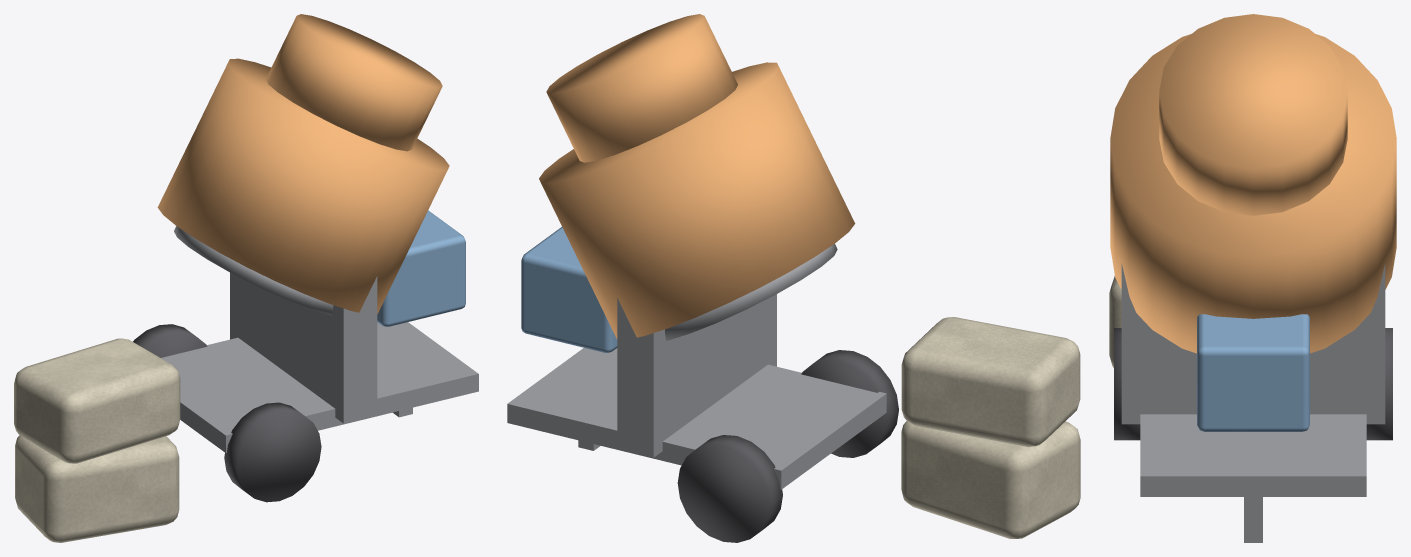
Rendered from obra.betonera.fbx.
The picture shows the model from 3 angles, left to right: view 1: azimuth 30°, elevation 25°; view 2: azimuth 150°, elevation 25°; view 3: azimuth 270°, elevation 25°; orthographic projection. The views are drawn at different scales.
Parts seen in each view (by area): view 1: Tambor, Chasis, Saco de cemento.001, Boca, Saco de cemento, Soporte, Rueda.001, Motor, Fondo, Rueda; view 2: Tambor, Chasis, Saco de cemento.001, Boca, Saco de cemento, Soporte, Rueda, Motor, Rueda.001, Fondo; view 3: Tambor, Boca, Chasis, Soporte, Motor, Rueda, Rueda.001, Pata, Saco de cemento.
Part boxes in pixels (x1,y1,x2,y2): Tambor: [157, 58, 449, 313]; Chasis: [161, 322, 478, 452]; Saco de cemento.001: [14, 338, 180, 463]; Boca: [266, 14, 442, 151]; Saco de cemento: [15, 435, 179, 542]; Soporte: [230, 272, 377, 423]; Rueda.001: [224, 402, 321, 502]; Motor: [377, 210, 465, 326]; Fondo: [174, 226, 333, 315]; Rueda: [133, 324, 207, 357]; Tambor: [539, 62, 855, 339]; Chasis: [507, 348, 886, 489]; Saco de cemento.001: [901, 317, 1080, 446]; Boca: [546, 14, 737, 162]; Saco de cemento: [901, 421, 1080, 538]; Soporte: [617, 294, 776, 457]; Rueda: [677, 435, 782, 542]; Motor: [521, 227, 617, 352]; Rueda.001: [801, 350, 898, 457]; Fondo: [665, 244, 837, 340]; Tambor: [1110, 34, 1396, 353]; Boca: [1159, 14, 1347, 215]; Chasis: [1140, 414, 1366, 496]; Soporte: [1121, 263, 1385, 424]; Motor: [1197, 314, 1309, 431]; Rueda: [1366, 328, 1392, 440]; Rueda.001: [1114, 328, 1140, 440]; Pata: [1244, 497, 1262, 542]; Saco de cemento: [1109, 276, 1121, 367].
Size of the model in its own units: 1.59 by 1.38 by 0.7628.
Materials: 6 (1 with a texture image).
